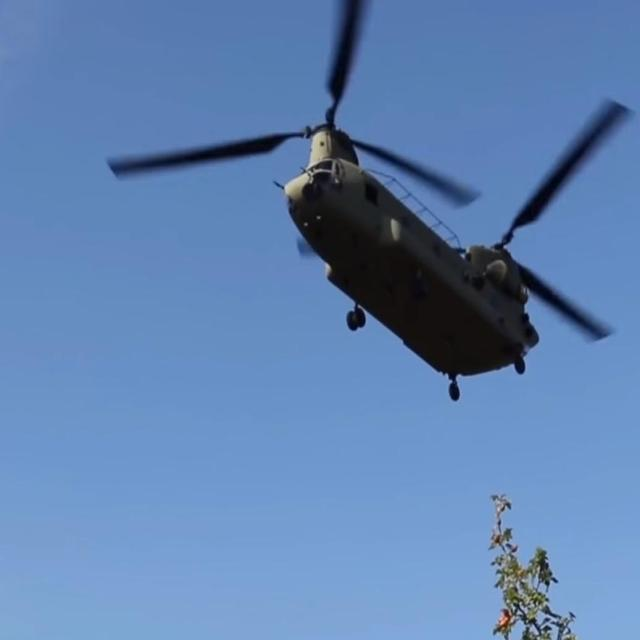Helicopter: (195, 70, 561, 400)
